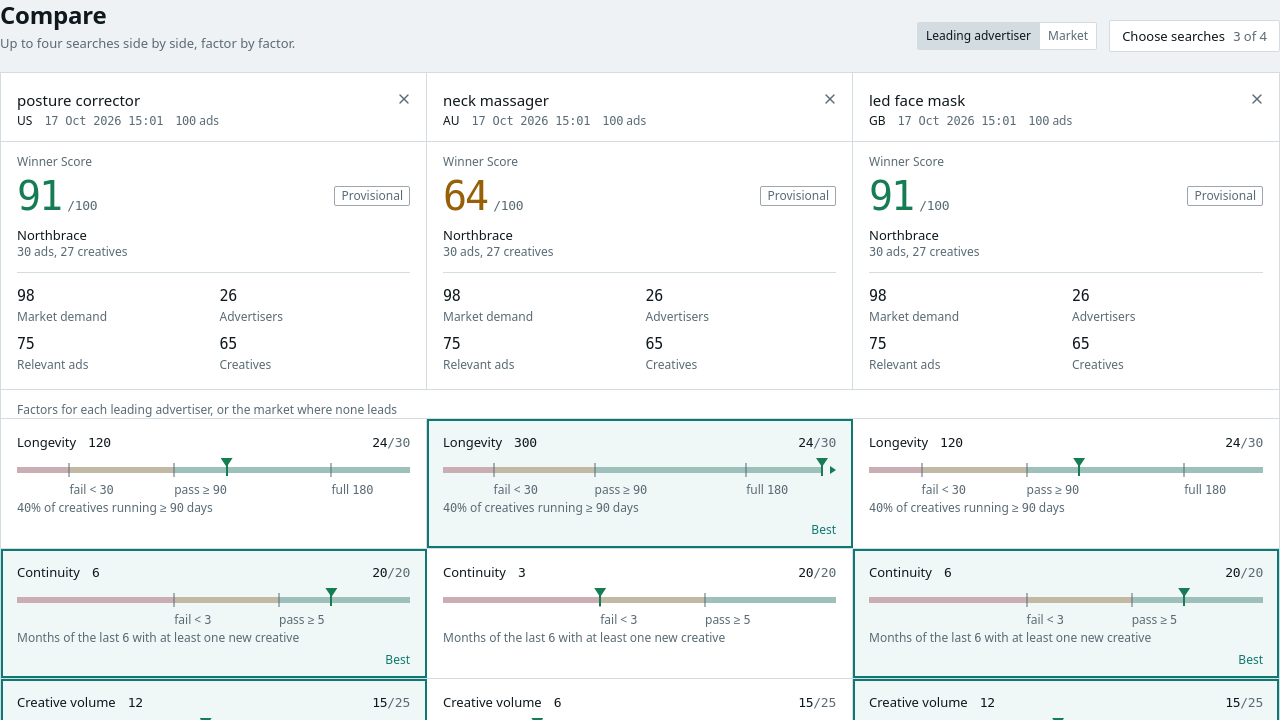
ComparePage › compare picker limits to four
This screenshot has width=1280, height=720.
expect the element with test id "compare-row-longevity" is shown: met, box x1=1 y1=419 x2=1279 y2=548
Click the button "Choose searches 3 of 4": (1195, 36) x1=1109 y1=20 x2=1279 y2=52
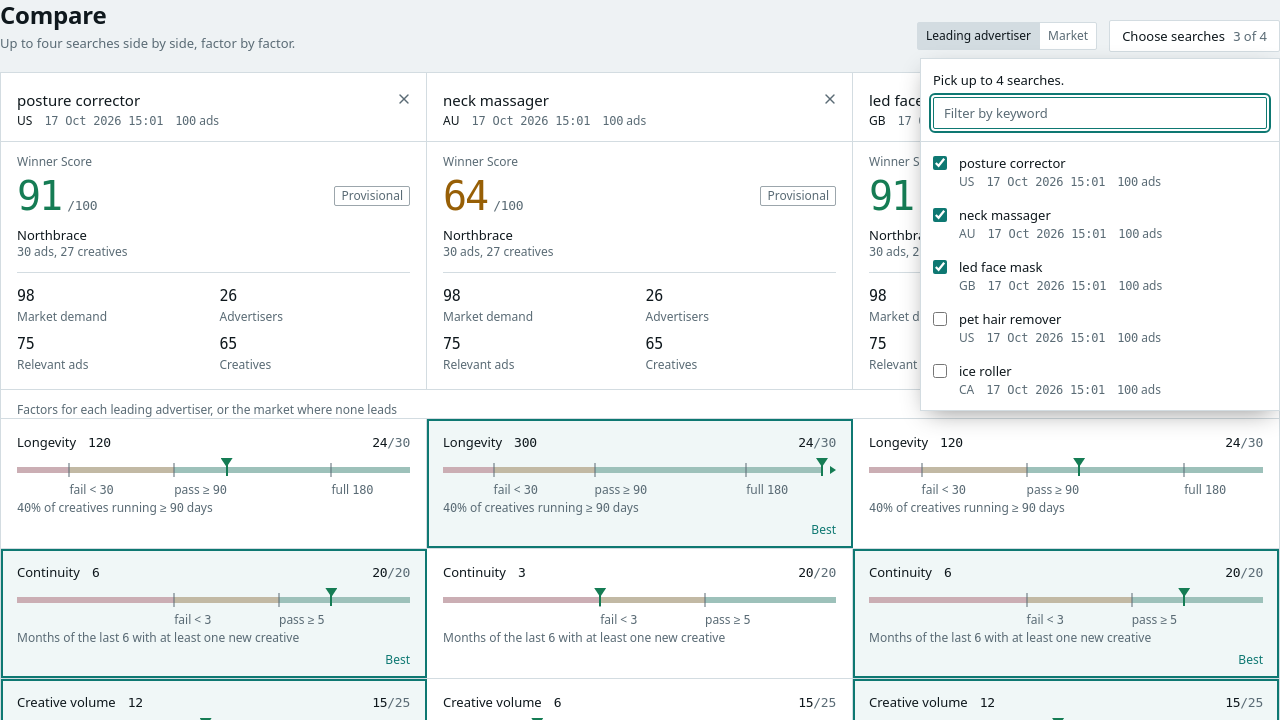
expect the checkbox labelled "pet hair remover US 17 Oct 2026 15:01 100 ads" is enabled: met
expect the checkbox labelled "posture corrector US 17 Oct 2026 15:01 100 ads" is checked: met, box x1=933 y1=156 x2=947 y2=170
Click the checkbox labelled "pet hair remover US 17 Oct 2026 15:01 100 ads": (940, 319) x1=933 y1=312 x2=947 y2=326
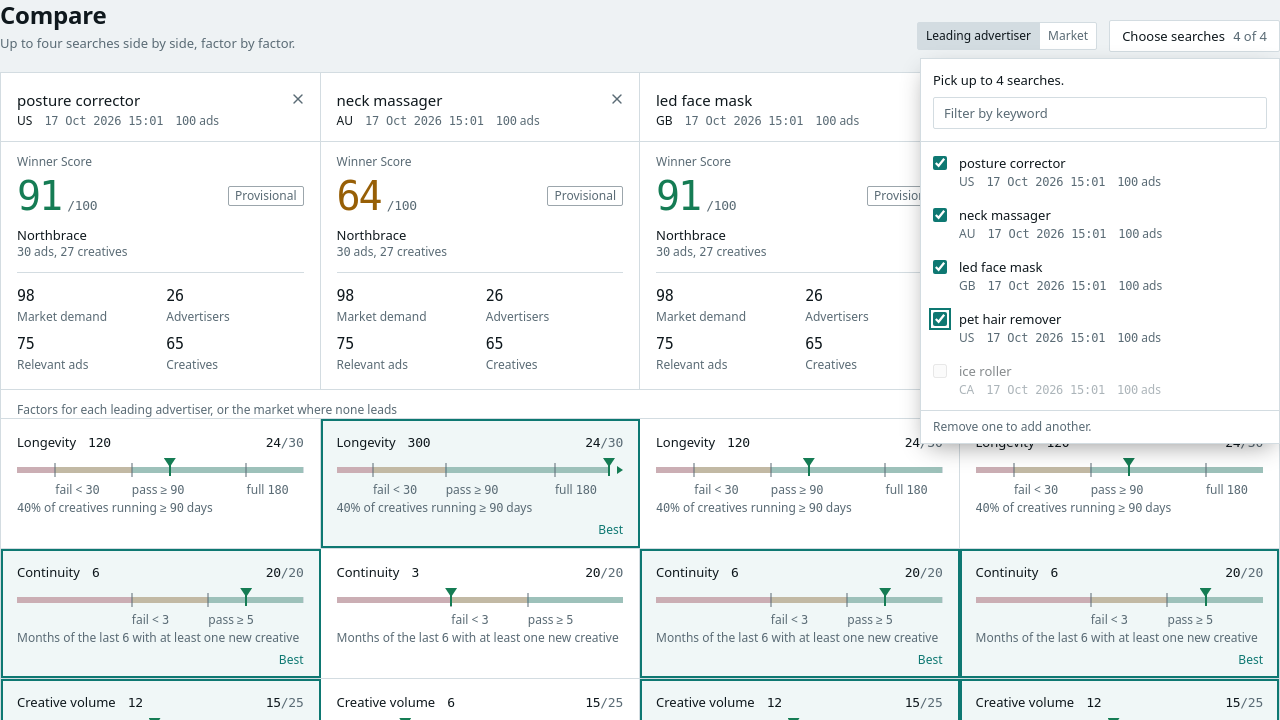
expect the checkbox labelled "pet hair remover US 17 Oct 2026 15:01 100 ads" is checked: met, box x1=933 y1=312 x2=947 y2=326
expect the text "Remove one to add another." is shown: met, box x1=921 y1=410 x2=1279 y2=443
expect the number of elements with test id "compare-score" is 4: met, box x1=17 y1=174 x2=61 y2=218; x1=336 y1=174 x2=381 y2=218; x1=656 y1=174 x2=700 y2=218; x1=976 y1=174 x2=1020 y2=218
Click the checkbox labelled "led face mask GB 17 Oct 2026 15:01 100 ads": (940, 267) x1=933 y1=260 x2=947 y2=274
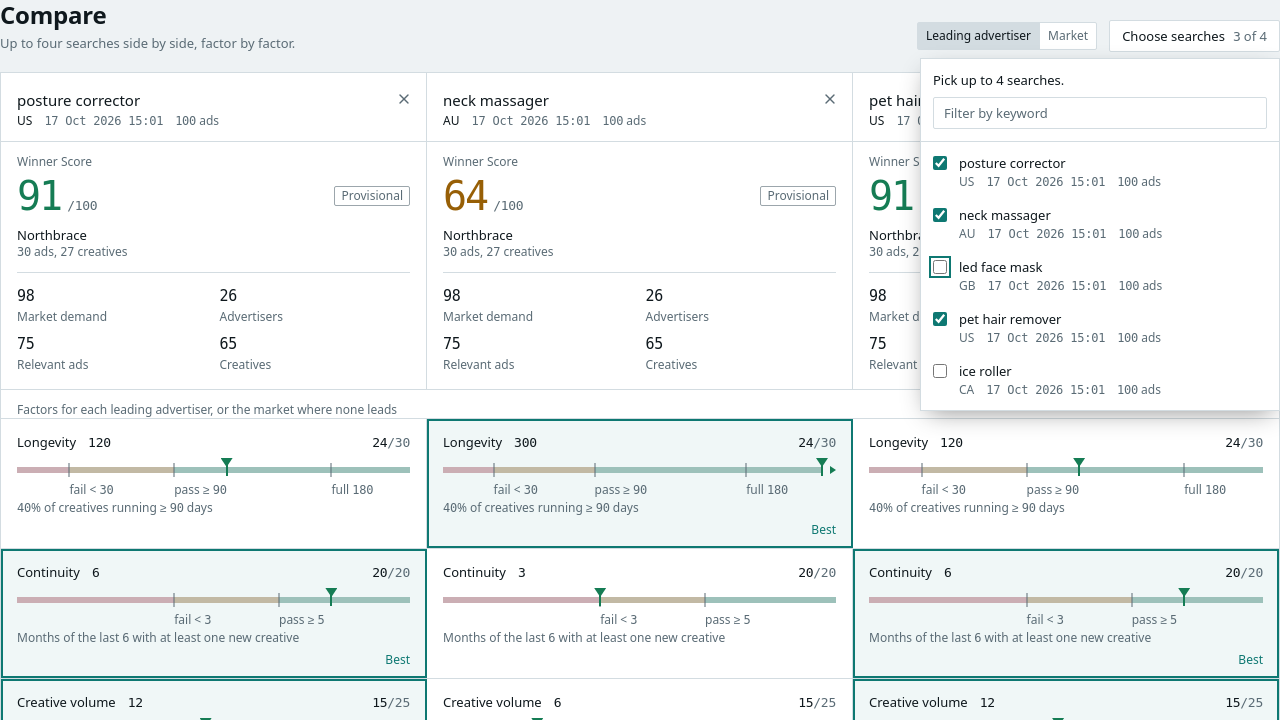
expect the checkbox labelled "ice roller CA 17 Oct 2026 15:01 100 ads" is enabled: met, box x1=933 y1=364 x2=947 y2=378
